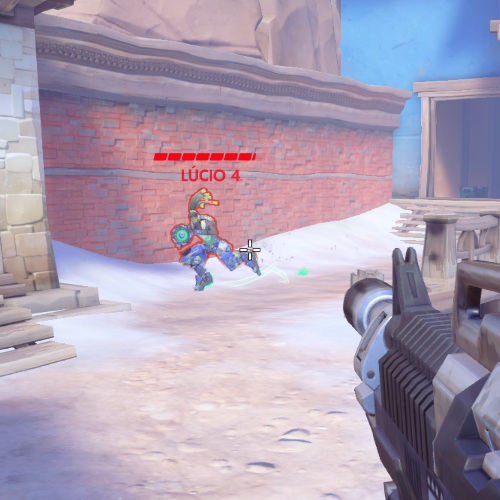hpbar: (153, 152, 267, 162)
